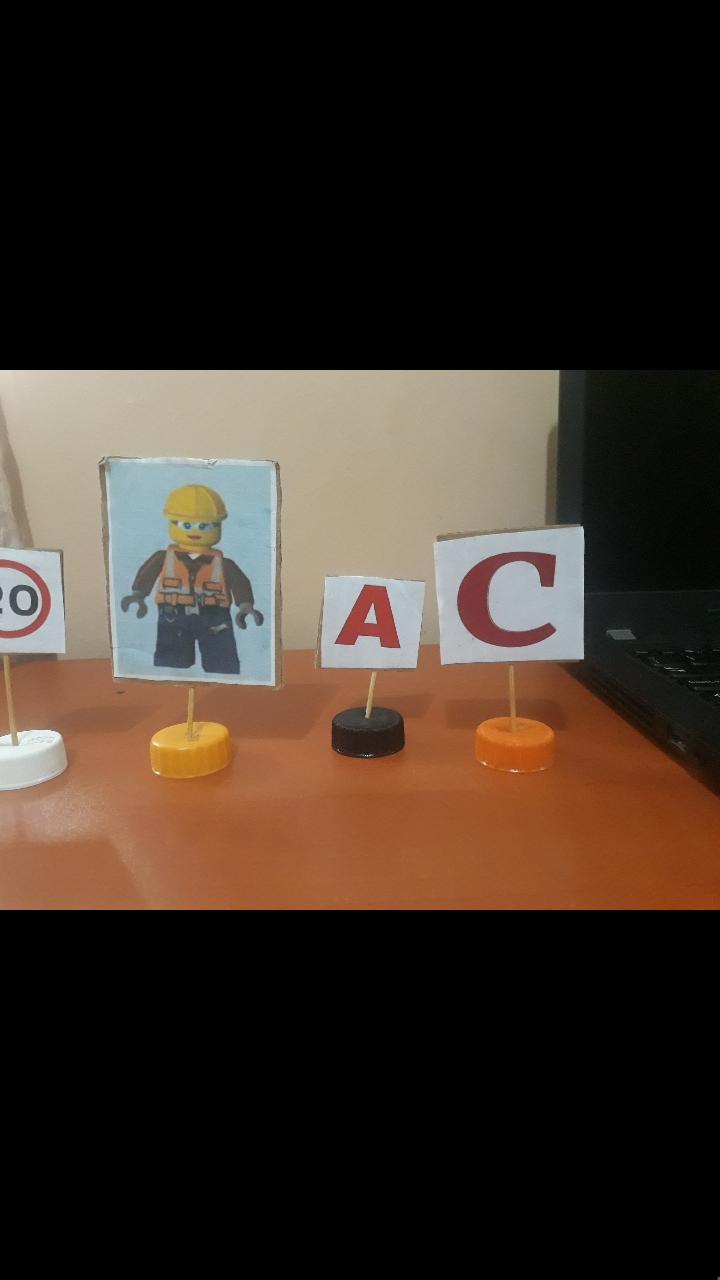pedestrian: (112, 468, 269, 684)
zone A: (328, 578, 422, 670)
zone C: (442, 541, 589, 657)
